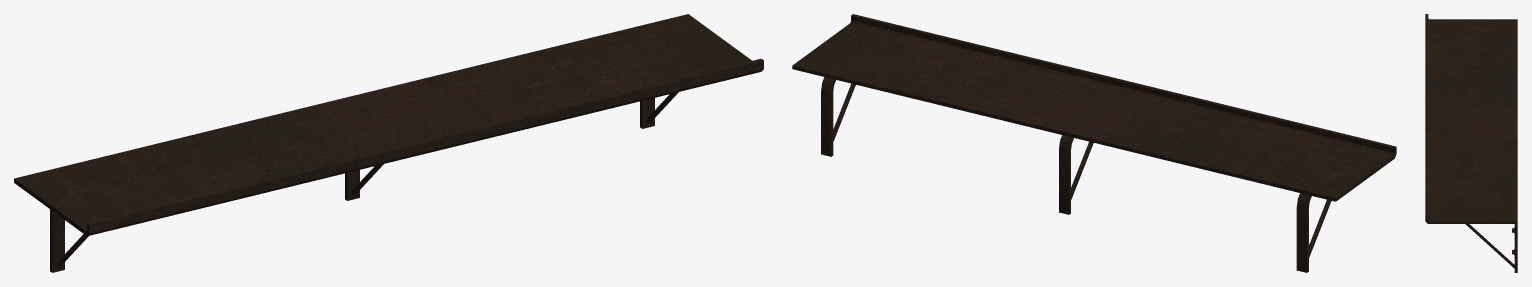
The model's file is hanging_shelf_mx_1_1.dae.
The picture shows the model from 3 angles, left to right: view 1: azimuth 30°, elevation 25°; view 2: azimuth 150°, elevation 25°; view 3: azimuth 270°, elevation 25°; orthographic projection. The views are drawn at different scales.
Visible parts, largest first — view 1: hanging_shelf_mx_1_1; view 2: hanging_shelf_mx_1_1; view 3: hanging_shelf_mx_1_1.
Part boxes in pixels (bbox=[...]): hanging_shelf_mx_1_1: bbox=[14, 14, 763, 272]; hanging_shelf_mx_1_1: bbox=[792, 14, 1396, 272]; hanging_shelf_mx_1_1: bbox=[1425, 14, 1517, 272].
Bounding box in the file's own units: 1.6 × 0.31 × 0.25.
Materials: 1 (1 with a texture image).
